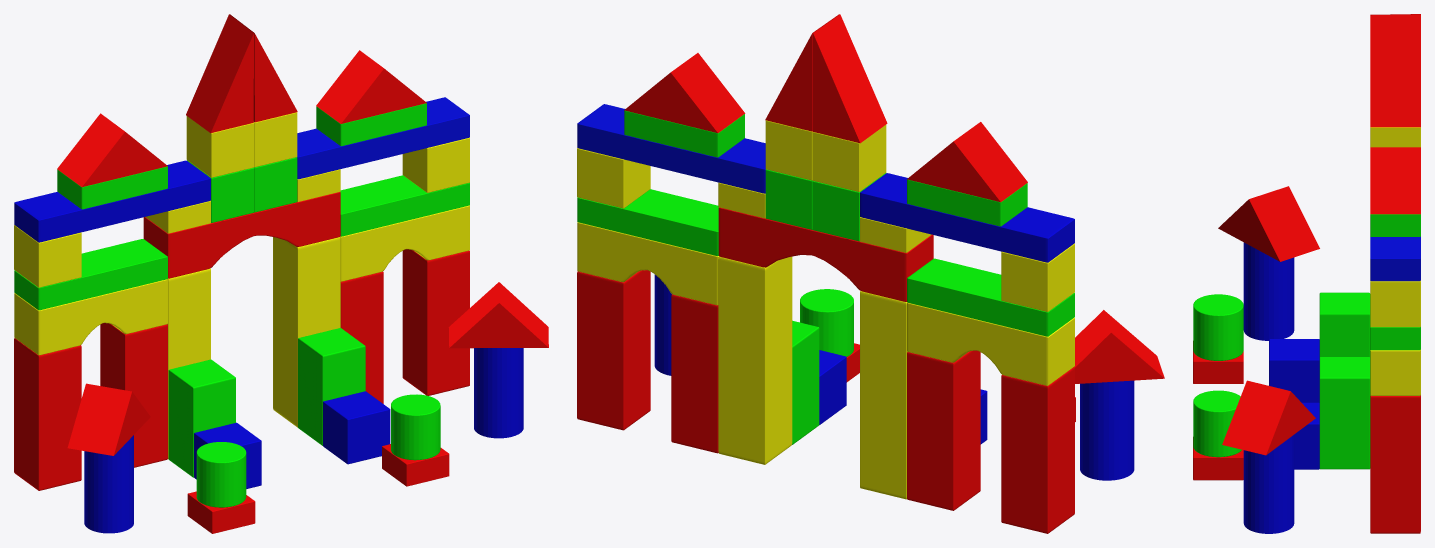
The model's file is castle from bricks.glb.
3 views of the same model, side by side, from view 1: azimuth 30°, elevation 25°; view 2: azimuth 150°, elevation 25°; view 3: azimuth 270°, elevation 25° (orthographic). The views are drawn at different scales.
Visible parts, largest first — view 1: Cube, Cube.004, Cube.003, Cube.008, Cube.006, Cube.001, Cube.023, Cube.022, Cube.007, Cube.016, Cube.009, Cube.010 (+27 smaller); view 2: Cube.003, Cube, Cube.001, Cube.004, Cube.002, Cube.008, Cube.006, Cube.023, Cube.005, Cube.022, Cube.007, Cube.016 (+21 smaller); view 3: Cube.004, Cube.013, Cube.032, Cube.034, Cylinder.002, Cylinder.003, Cube.033, Cube.031, Cube.009, Cylinder, Cube.011, Cylinder.001 (+9 smaller).
Part boxes in pixels (<box>): Cube: <box>14,338,81,490</box>; Cube.004: <box>402,249,469,395</box>; Cube.003: <box>273,237,340,427</box>; Cube.008: <box>143,192,340,278</box>; Cube.006: <box>14,279,167,355</box>; Cube.001: <box>100,323,167,467</box>; Cube.023: <box>14,160,210,242</box>; Cube.022: <box>297,97,469,179</box>; Cube.007: <box>340,205,469,281</box>; Cube.016: <box>14,239,167,310</box>; Cube.009: <box>168,359,235,477</box>; Cube.010: <box>186,14,253,133</box>; Cube.003: <box>718,256,792,464</box>; Cube: <box>1001,367,1074,533</box>; Cube.001: <box>907,350,980,510</box>; Cube.004: <box>577,270,650,430</box>; Cube.002: <box>860,291,907,499</box>; Cube.008: <box>718,207,933,301</box>; Cube.006: <box>907,302,1074,385</box>; Cube.023: <box>860,173,1074,262</box>; Cube.005: <box>671,294,718,453</box>; Cube.022: <box>577,104,765,193</box>; Cube.007: <box>577,222,718,305</box>; Cube.016: <box>907,258,1074,336</box>; Cube.004: <box>1370,395,1420,533</box>; Cube.013: <box>1319,357,1370,469</box>; Cube.032: <box>1370,14,1420,127</box>; Cube.034: <box>1218,186,1319,261</box>; Cylinder.002: <box>1243,242,1294,340</box>; Cylinder.003: <box>1243,435,1294,533</box>; Cube.033: <box>1222,380,1315,455</box>; Cube.031: <box>1370,147,1420,214</box>; Cube.009: <box>1319,292,1370,357</box>; Cylinder: <box>1193,294,1243,360</box>; Cube.011: <box>1269,339,1319,402</box>; Cylinder.001: <box>1193,390,1241,457</box>.
Bounding box in the file's own units: 22.48 × 18 × 9.
